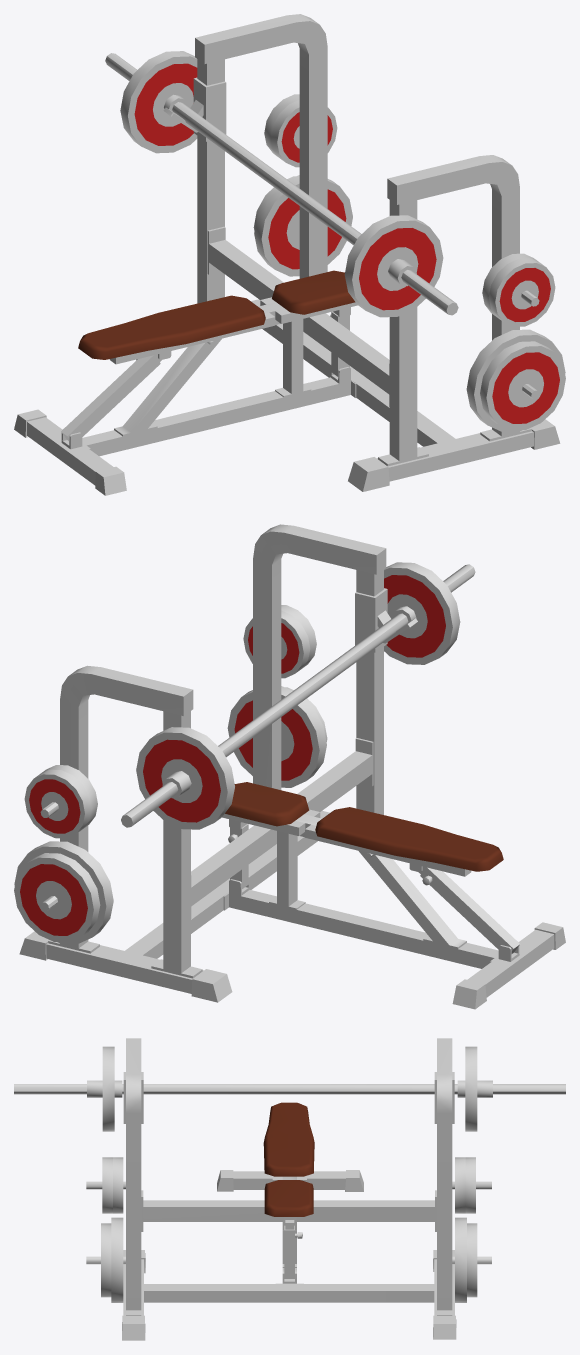
Rendered from SM_M_Government_Office_WorkoutBench_01_ATLAS.fbx.
3 views of the same model, one above another, from view 1: azimuth 30°, elevation 25°; view 2: azimuth 150°, elevation 25°; view 3: azimuth 270°, elevation 25° (orthographic). The views are drawn at different scales.
Visible parts, largest first — view 1: SM_M_Government_Office_WorkoutBench_01_ATLAS; view 2: SM_M_Government_Office_WorkoutBench_01_ATLAS; view 3: SM_M_Government_Office_WorkoutBench_01_ATLAS.
Part boxes in pixels (x1,y1,x2,y2): SM_M_Government_Office_WorkoutBench_01_ATLAS: [14, 14, 565, 495]; SM_M_Government_Office_WorkoutBench_01_ATLAS: [14, 524, 565, 1009]; SM_M_Government_Office_WorkoutBench_01_ATLAS: [14, 1038, 565, 1340].
Size of the model in its own units: 176 by 262 by 125.
